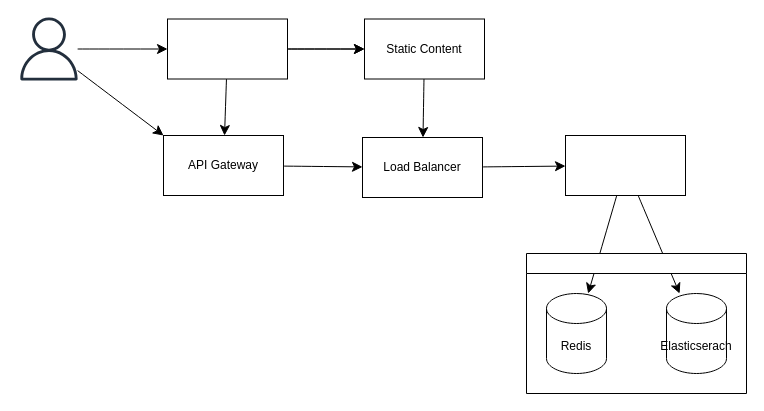
Image size: 764x411. Some labels were removed from this diagram. Each missing label, with the box of its shape:
CDN: (166, 18, 288, 79)
Vertical Flow Layout: (526, 252, 746, 394)
Web App Server: (564, 134, 686, 196)
